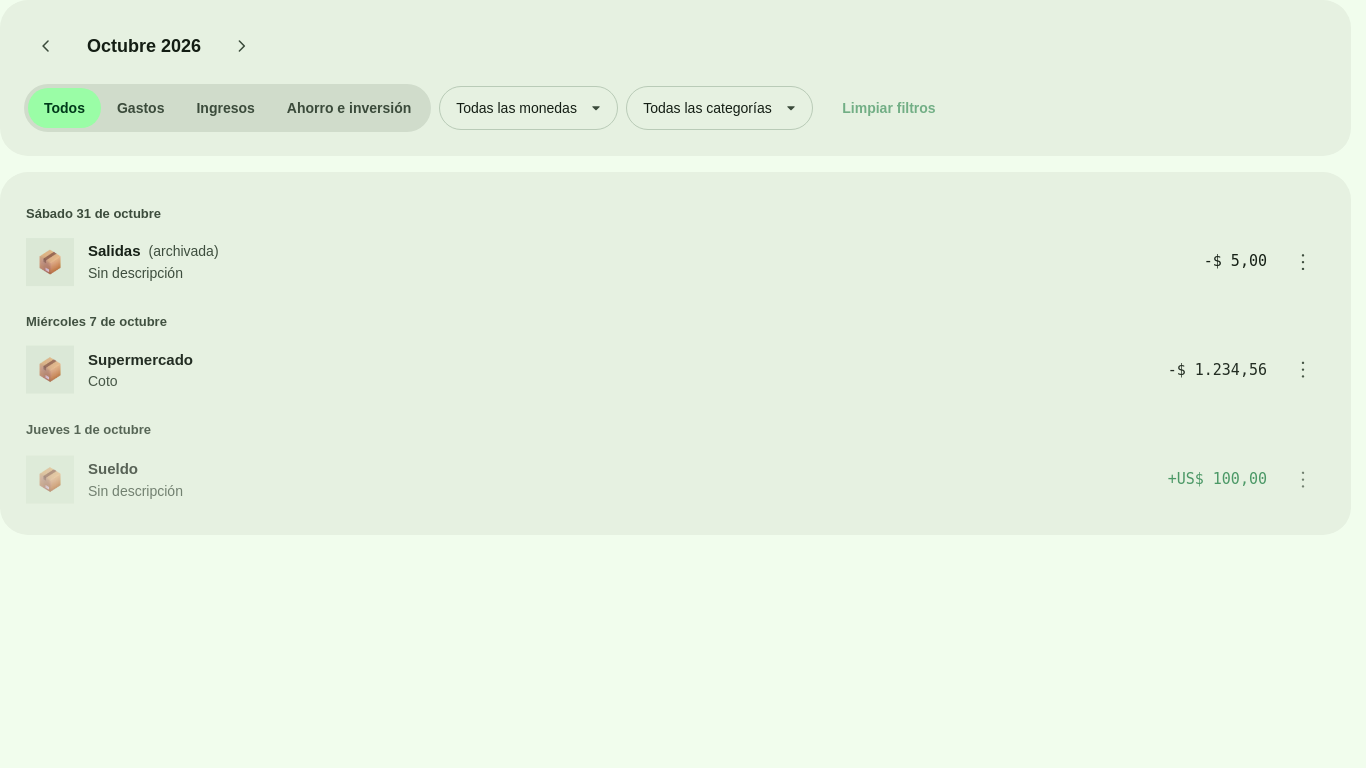
MovementsPage › delete › shows the error inside the dialog when deleting fails
The image size is (1366, 768).
Click the button named "Acciones del movimiento de Supermercado del 07/10/2026". click: (1303, 370)
box: [1281,348,1325,392]
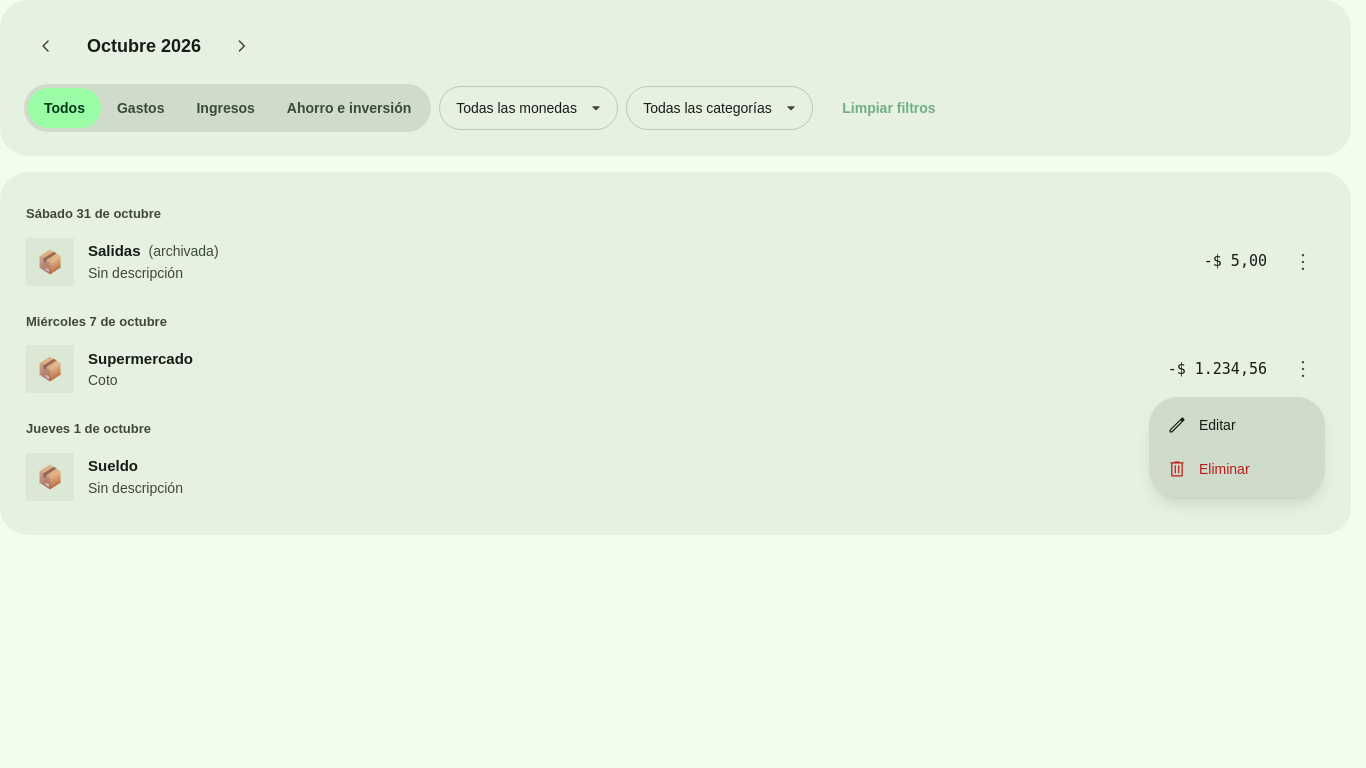
Click the menu item "Eliminar". click: (1208, 469)
box: [1167,459,1250,479]
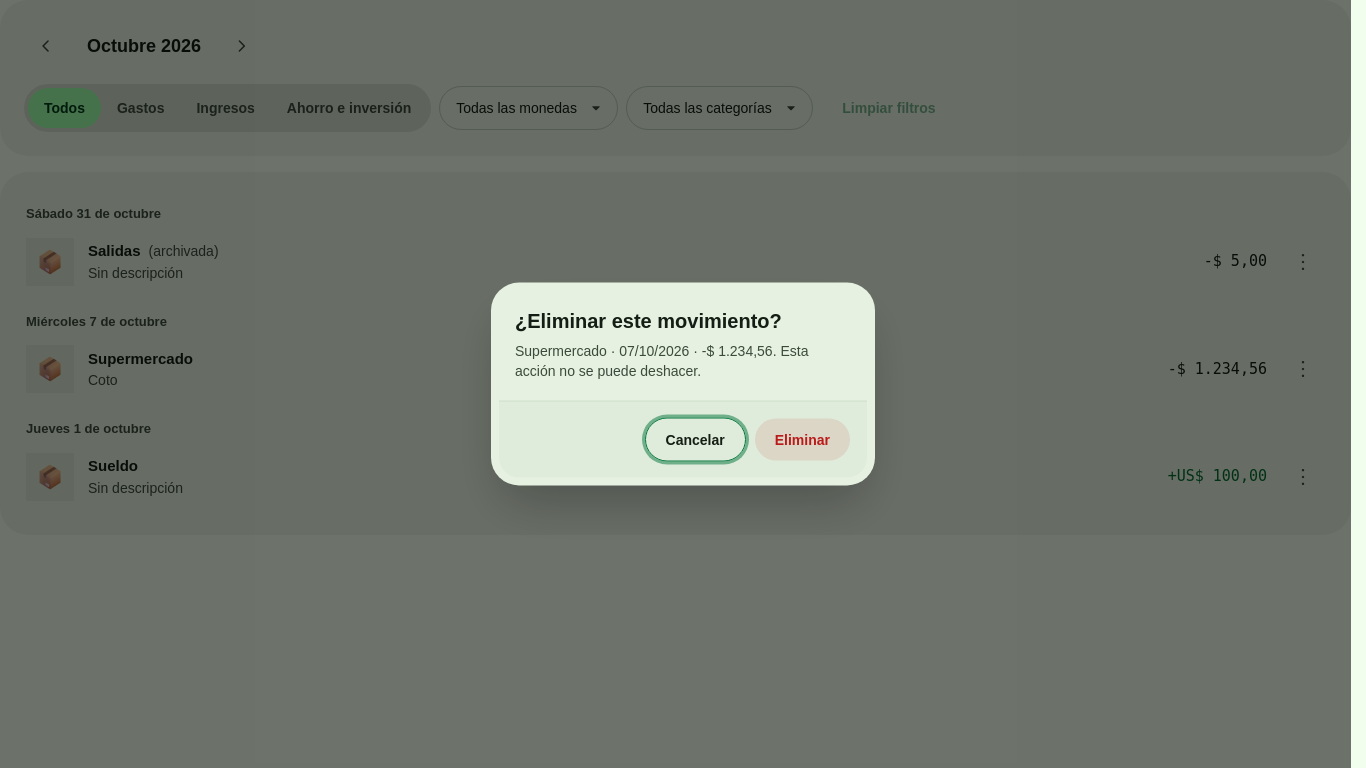
Click the button "Eliminar". click: (802, 440)
box: [754,418,851,462]
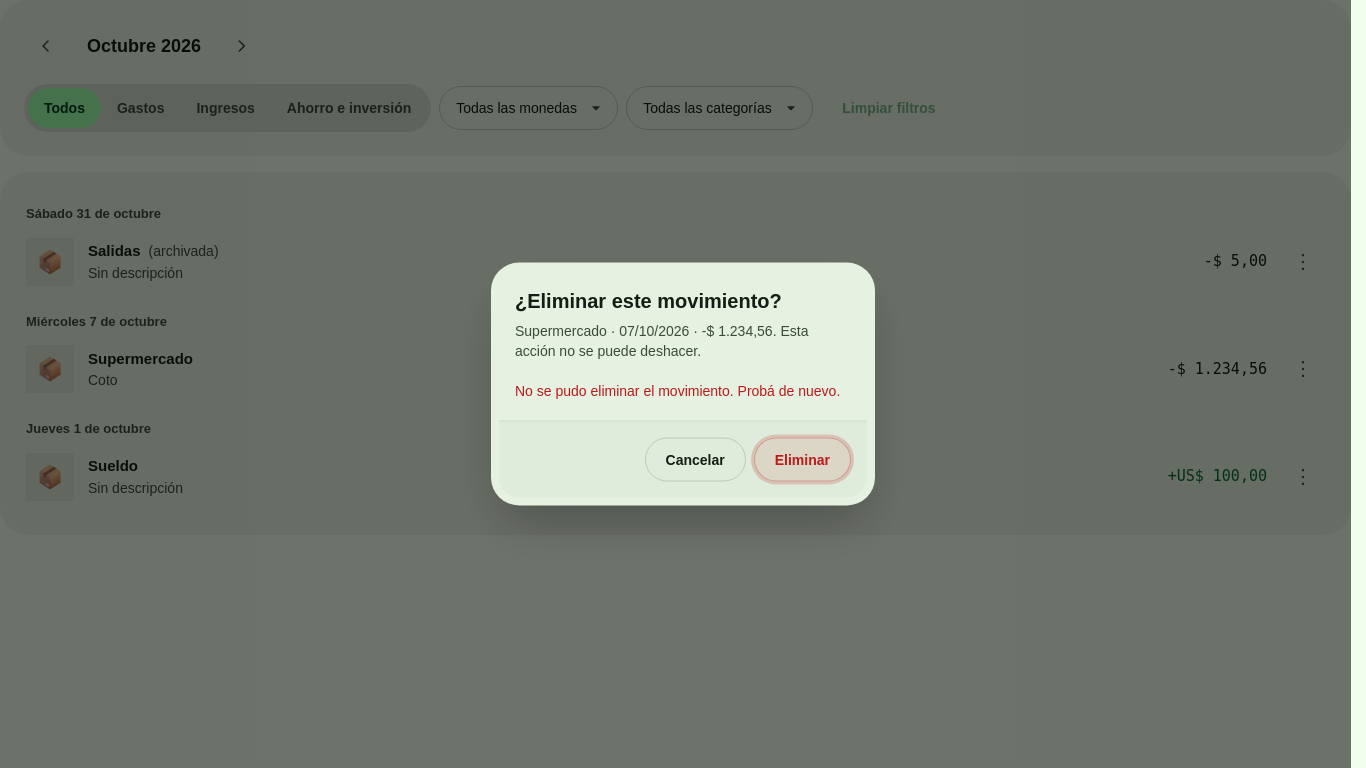
Expected: the message shows "No se pudo eliminar el movimiento.", [515,382,840,398]
